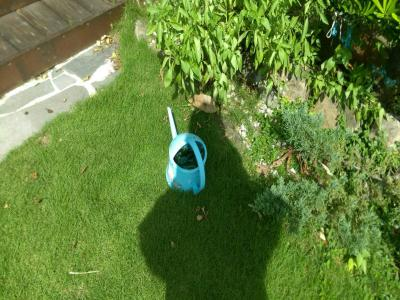bowl: (165, 130, 210, 196)
